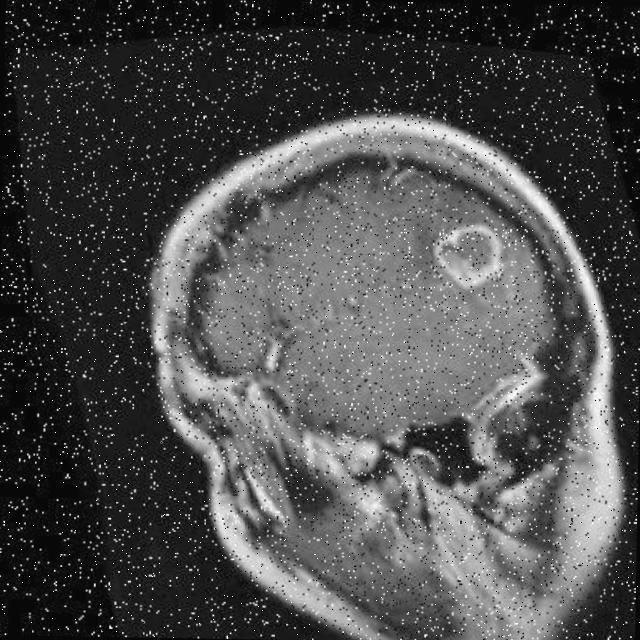EMCI: (392, 163, 524, 308)
